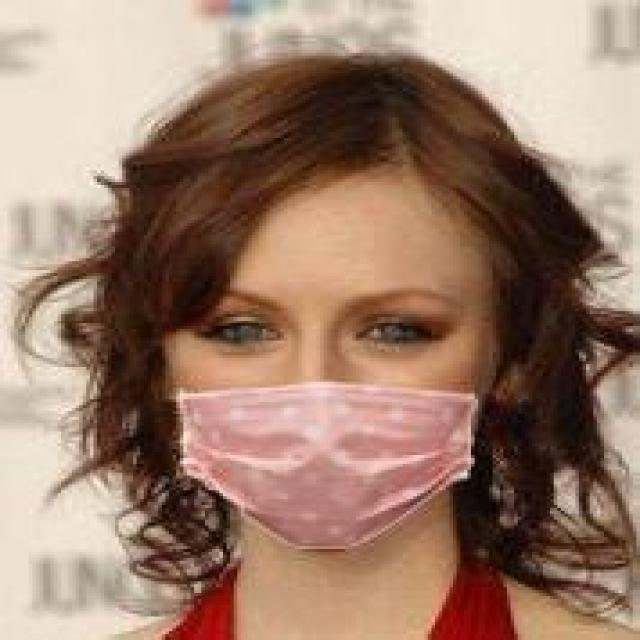mask: (115, 41, 547, 567)
